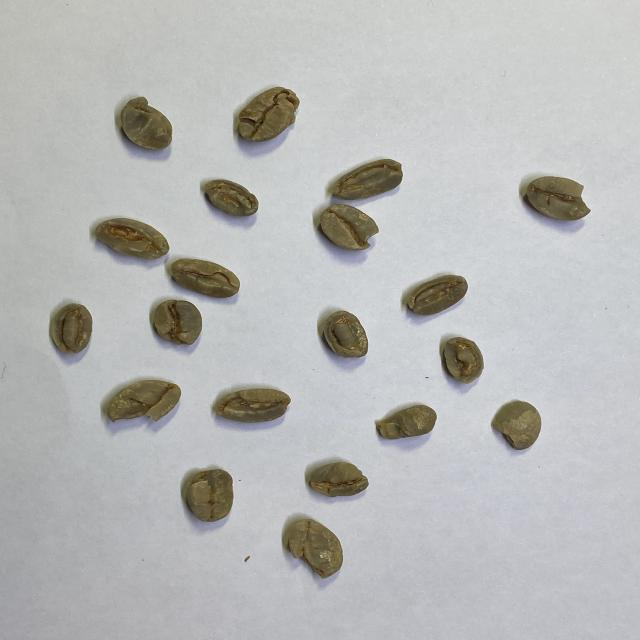bad: (234, 84, 302, 145), (286, 516, 346, 581), (104, 378, 183, 427), (180, 465, 240, 525), (522, 173, 592, 224), (93, 217, 171, 262), (331, 156, 405, 202), (318, 202, 382, 253), (214, 387, 292, 428), (119, 95, 175, 152), (170, 256, 241, 300), (405, 272, 469, 320), (488, 398, 542, 453), (373, 402, 440, 443), (307, 460, 373, 501), (151, 297, 204, 348), (48, 302, 98, 355), (200, 177, 260, 219), (322, 309, 372, 359), (442, 334, 486, 386)
